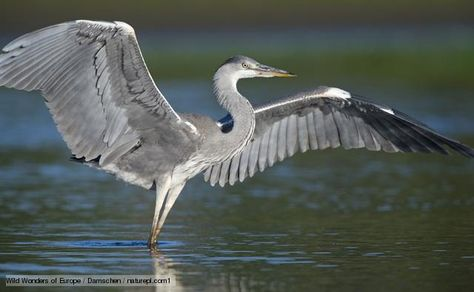heron: (1, 21, 470, 267)
